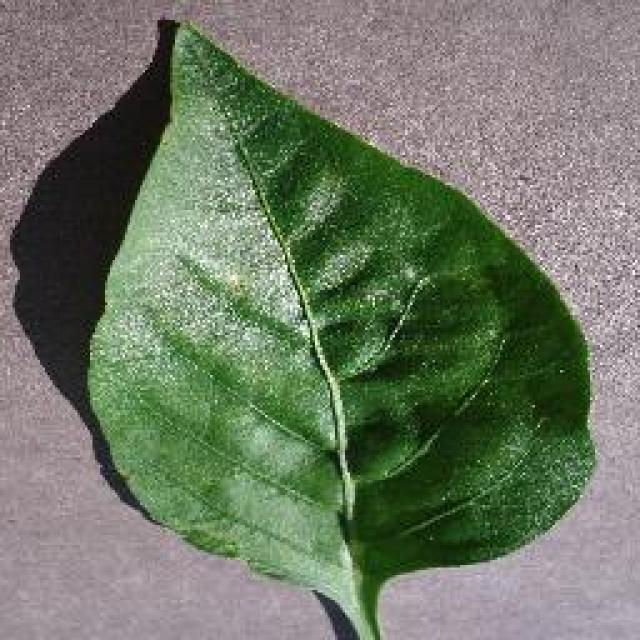Chilli_Healthy: (82, 15, 598, 637)
